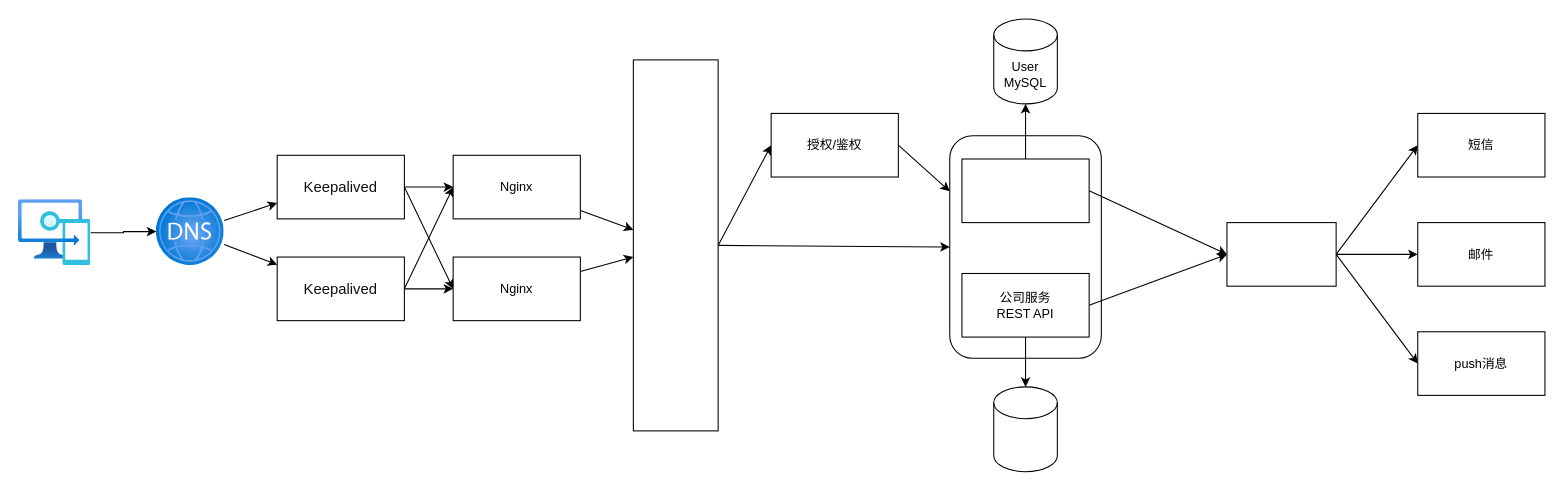
Some shapes in this 1563 by 490 pixel diagram are drawn without their labels. The shapes that lost their labels are listed below. From the top down, each one's centre as x and y in pixels, then its label:
[1025,190]: 用户服务 REST API
[675,245]: 业务网关
[1281,254]: 消息服务
[1025,429]: Comply MySQL
